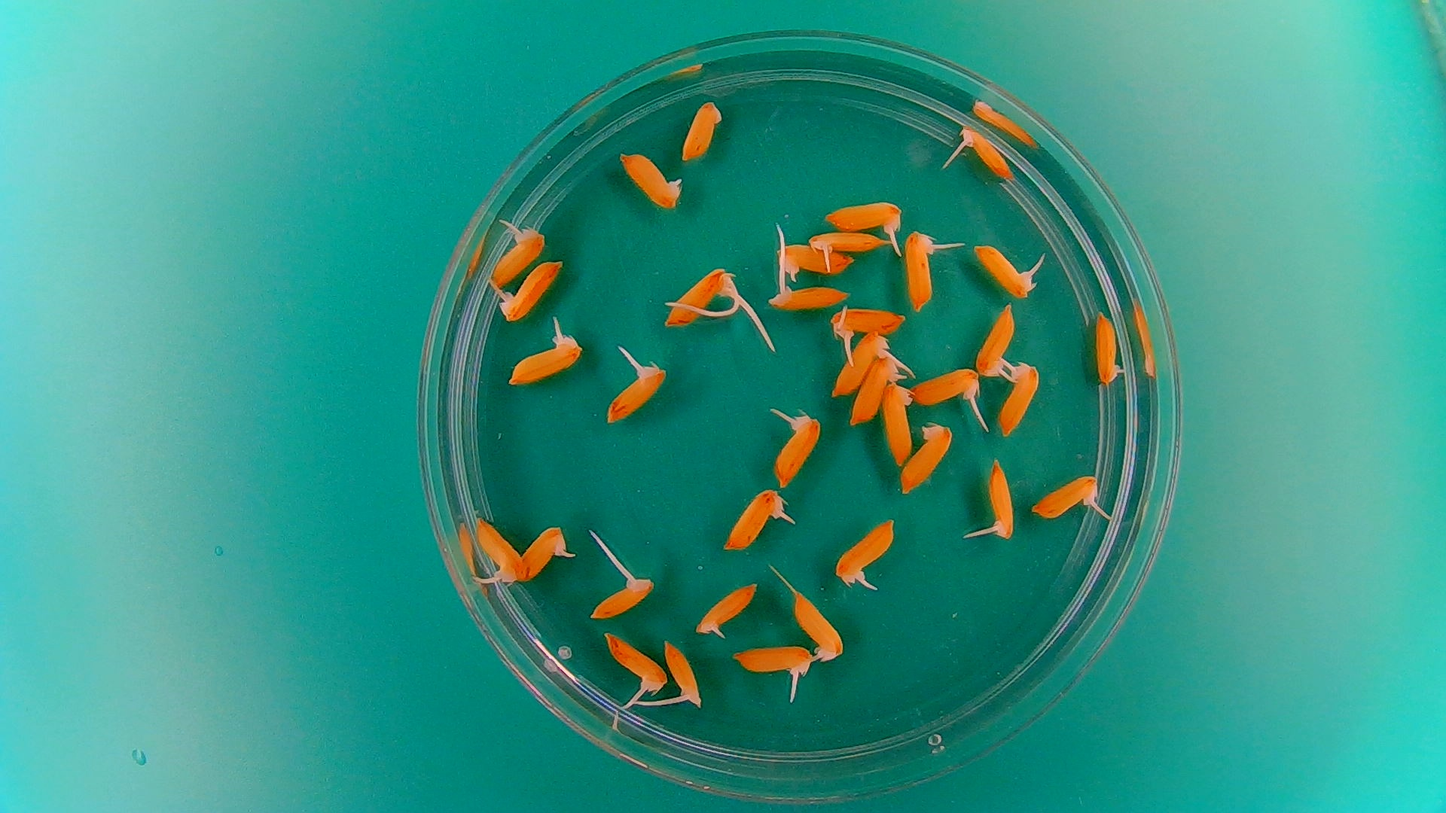no: (898, 419, 957, 498), (678, 95, 724, 162), (881, 378, 915, 465)
yes: (660, 266, 735, 330), (602, 629, 669, 693), (501, 257, 565, 322), (831, 329, 892, 397), (969, 239, 1037, 300), (694, 578, 762, 638), (472, 516, 529, 587), (837, 518, 897, 583), (603, 364, 665, 426), (506, 336, 579, 388), (725, 488, 781, 555), (850, 355, 901, 428), (791, 592, 844, 662), (1032, 472, 1106, 521), (623, 150, 681, 211), (490, 225, 547, 287), (820, 196, 905, 237), (910, 367, 984, 414), (772, 413, 823, 478), (959, 122, 1014, 181), (828, 303, 907, 344), (730, 642, 813, 681), (773, 240, 853, 279), (587, 574, 652, 622), (974, 303, 1014, 379), (999, 362, 1039, 437), (764, 277, 853, 310), (904, 227, 938, 309), (1093, 309, 1127, 388), (523, 524, 568, 583), (663, 636, 700, 707), (985, 458, 1017, 539), (806, 230, 894, 253)
